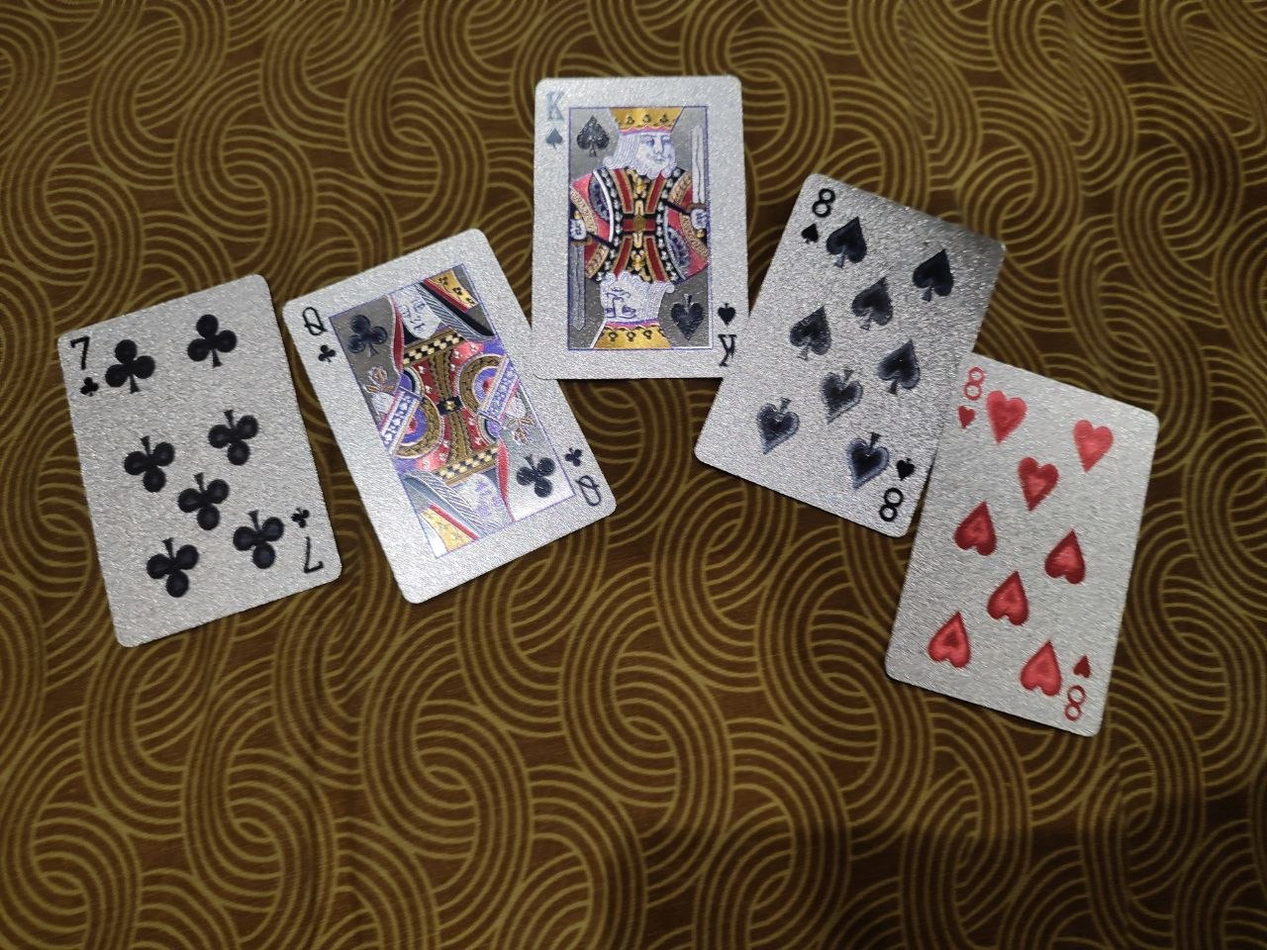7C: (59, 273, 342, 649)
8H: (882, 350, 1162, 738)
8S: (693, 172, 1005, 537)
KS: (529, 74, 750, 380)
QC: (283, 227, 618, 603)
